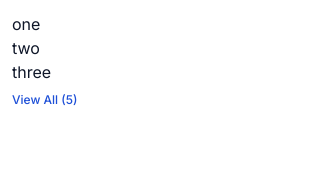
Test: TopNReveal default view-all › shows Top 3 by default and expands/collapses with accurate counts
Expected: the number of list items is 3, [12, 14, 40, 34]; [12, 38, 40, 58]; [12, 62, 51, 82]
Expected: the text "four" is not shown
Click the button "View All (5)": (45, 100) [12, 92, 77, 108]
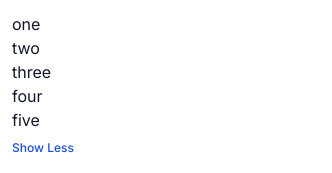
Result: the number of list items is 5 at [12, 14, 40, 34]; [12, 38, 40, 58]; [12, 62, 51, 82]; [12, 86, 42, 106]; [12, 110, 40, 130]
Result: the list item "five" is shown at [12, 110, 40, 130]
Click the button "Show Less": (43, 148) [12, 140, 74, 156]
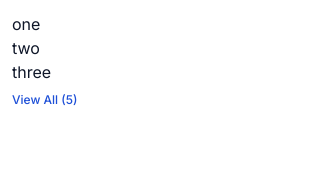
Result: the number of list items is 3 at [12, 14, 40, 34]; [12, 38, 40, 58]; [12, 62, 51, 82]
Result: the button "View All (5)" is shown at [12, 92, 77, 108]
